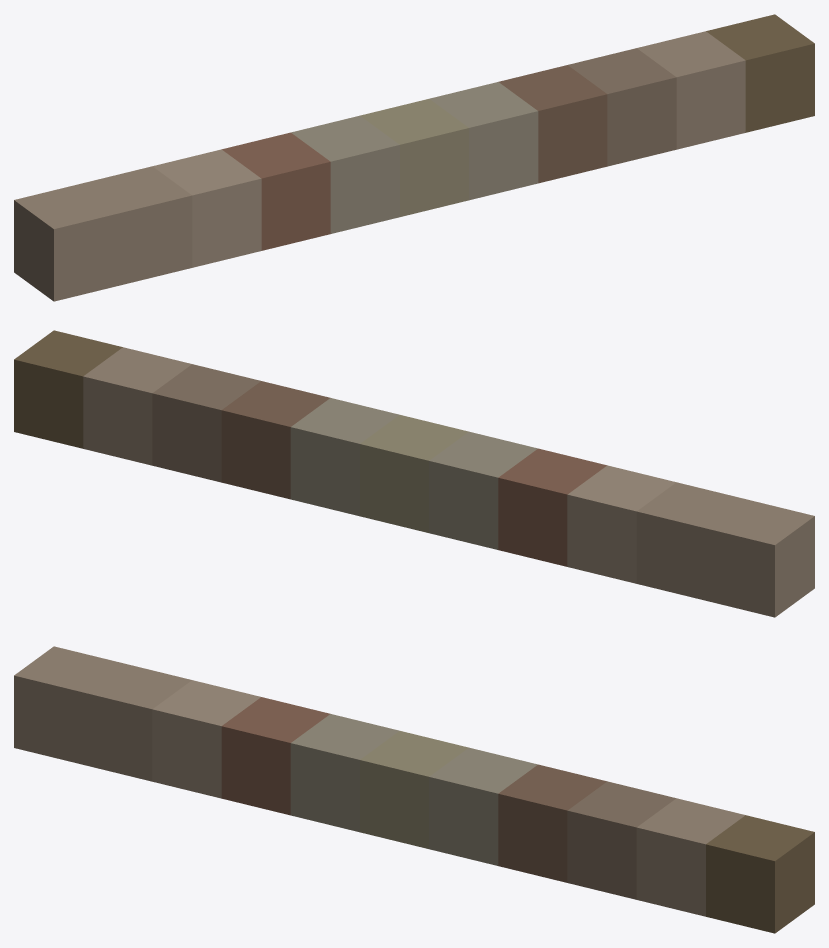
Rendered from wooden_fence_beam_alt_2.glb.
3 views of the same model, one above another, from view 1: azimuth 30°, elevation 25°; view 2: azimuth 150°, elevation 25°; view 3: azimuth 330°, elevation 25° (orthographic).
Visible parts, largest first — view 1: wooden_fence_beam_alt_2; view 2: wooden_fence_beam_alt_2; view 3: wooden_fence_beam_alt_2.
Boxes of the visible parts, x1,y1,x2,y2 form: wooden_fence_beam_alt_2: (14,14,814,301); wooden_fence_beam_alt_2: (14,330,814,617); wooden_fence_beam_alt_2: (14,646,814,933).
Bounding box in the file's own units: 2.75 × 0.25 × 0.25.
Materials: 1 (1 with a texture image).
